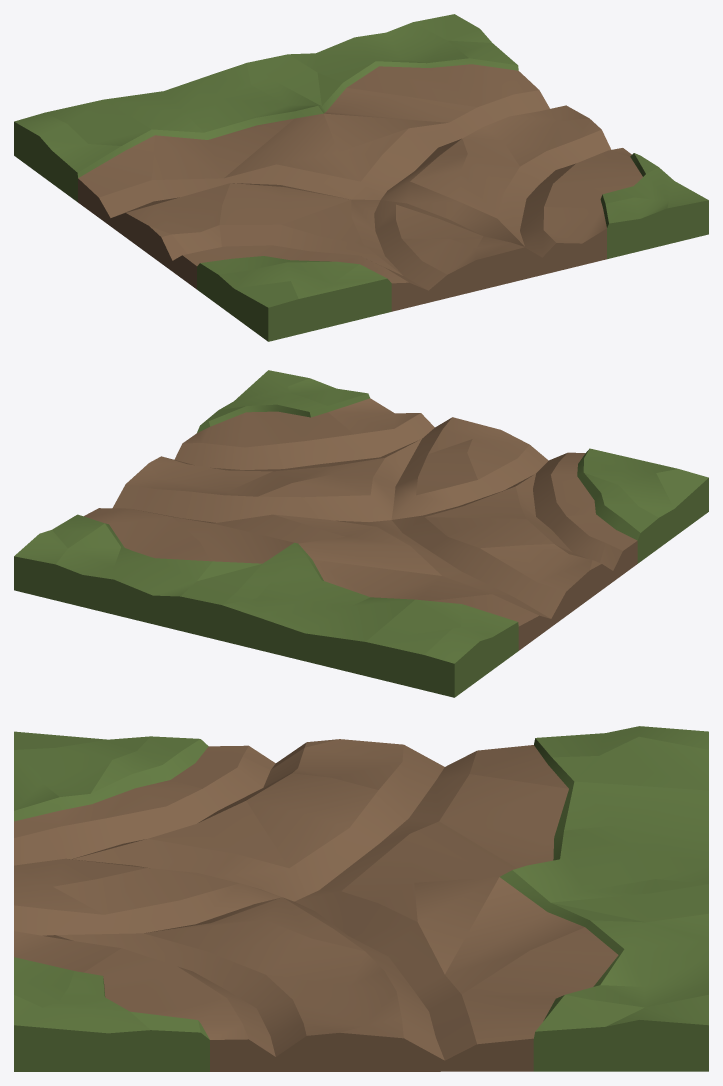
Rendered from Ground_Road_Crossroads_B.glb.
The picture shows the model from 3 angles, top to bottom: view 1: azimuth 30°, elevation 25°; view 2: azimuth 150°, elevation 25°; view 3: azimuth 270°, elevation 25°; orthographic projection. The views are drawn at different scales.
Parts seen in each view (by area): view 1: Ground_Road_Crossroads_B; view 2: Ground_Road_Crossroads_B; view 3: Ground_Road_Crossroads_B.
Part boxes in pixels (x1,y1,x2,y2): Ground_Road_Crossroads_B: (14,14,708,341); Ground_Road_Crossroads_B: (14,370,708,697); Ground_Road_Crossroads_B: (14,726,708,1071).
Size of the model in its own units: 1.47 by 0.1465 by 1.47.
